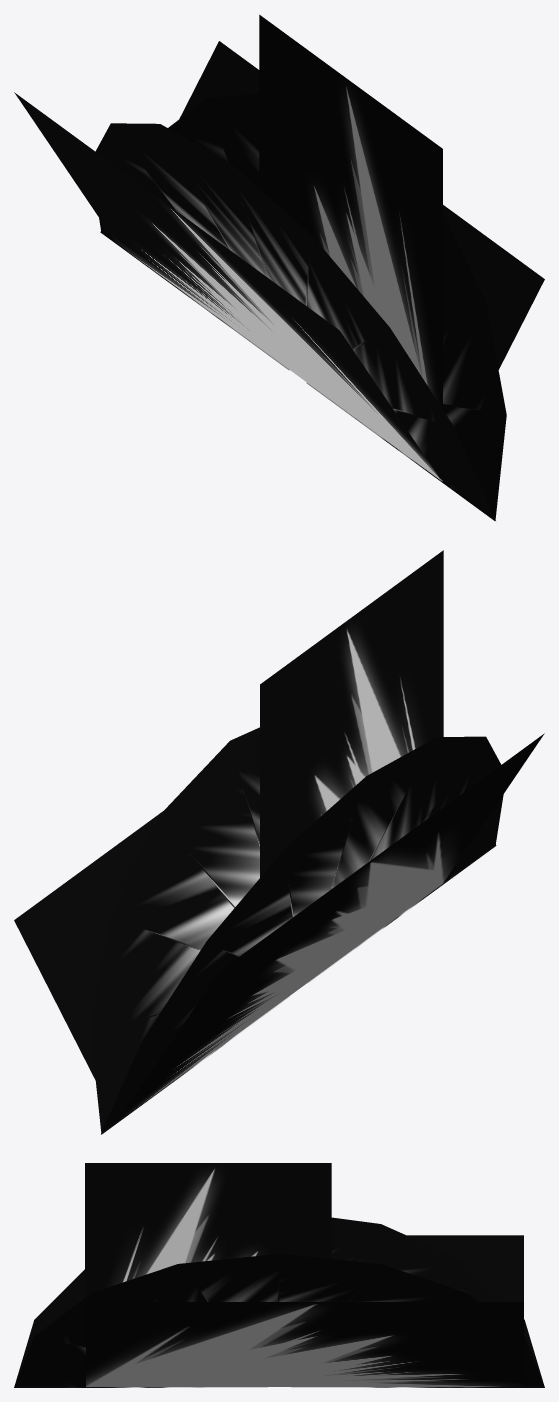
File: Slash_efe.FBX
3 renders of one model, top to bottom at view 1: azimuth 30°, elevation 25°; view 2: azimuth 150°, elevation 25°; view 3: azimuth 270°, elevation 25°, orthographic. The views are drawn at different scales.
Parts seen in each view (by area): view 1: Plane007, Cylinder002, Plane009, Cylinder001, Plane008; view 2: Plane007, Cylinder001, Cylinder002, Plane009, Plane008; view 3: Plane008, Plane007, Cylinder001, Cylinder002, Plane009.
Boxes of the visible parts, x1=… form: Plane007: x1=259, y1=14, x2=442, y2=481; Cylinder002: x1=95, y1=123, x2=495, y2=520; Plane009: x1=14, y1=92, x2=441, y2=480; Cylinder001: x1=100, y1=93, x2=506, y2=520; Plane008: x1=179, y1=41, x2=544, y2=369; Plane007: x1=260, y1=550, x2=443, y2=877; Cylinder001: x1=90, y1=727, x2=496, y2=1134; Cylinder002: x1=101, y1=736, x2=503, y2=1133; Plane009: x1=117, y1=733, x2=544, y2=1121; Plane008: x1=14, y1=811, x2=162, y2=1079; Plane008: x1=86, y1=1302, x2=523, y2=1386; Plane007: x1=85, y1=1163, x2=331, y2=1297; Cylinder001: x1=14, y1=1253, x2=544, y2=1386; Cylinder002: x1=14, y1=1217, x2=544, y2=1387; Plane009: x1=407, y1=1235, x2=523, y2=1301.
Bounding box in the file's own units: 50.79 × 79.01 × 169.
